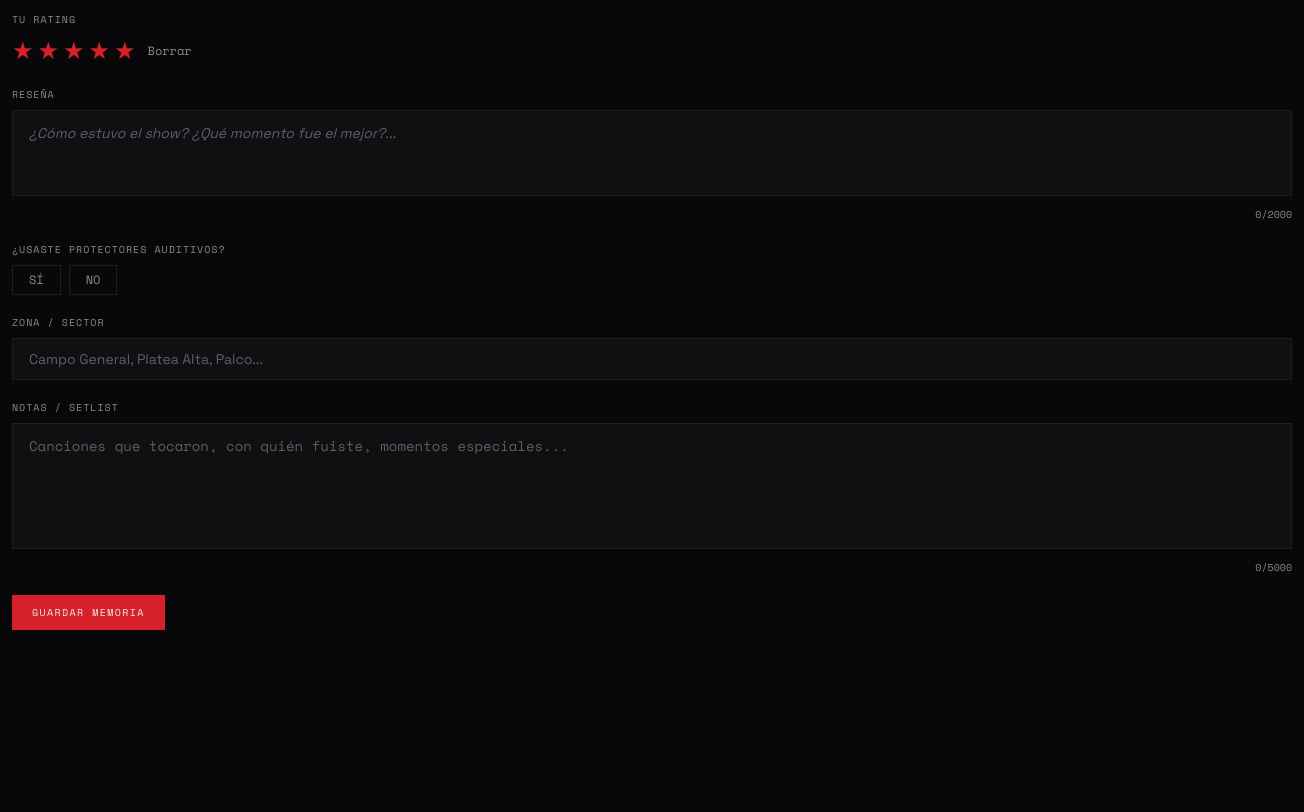
Test: RatingAndReviewForm › clears the rating via the "Borrar" button
What coordinates should you click on to do the following:
click the button "Borrar"
I would click on:
 (170, 51)
Its box is [148, 43, 192, 59].
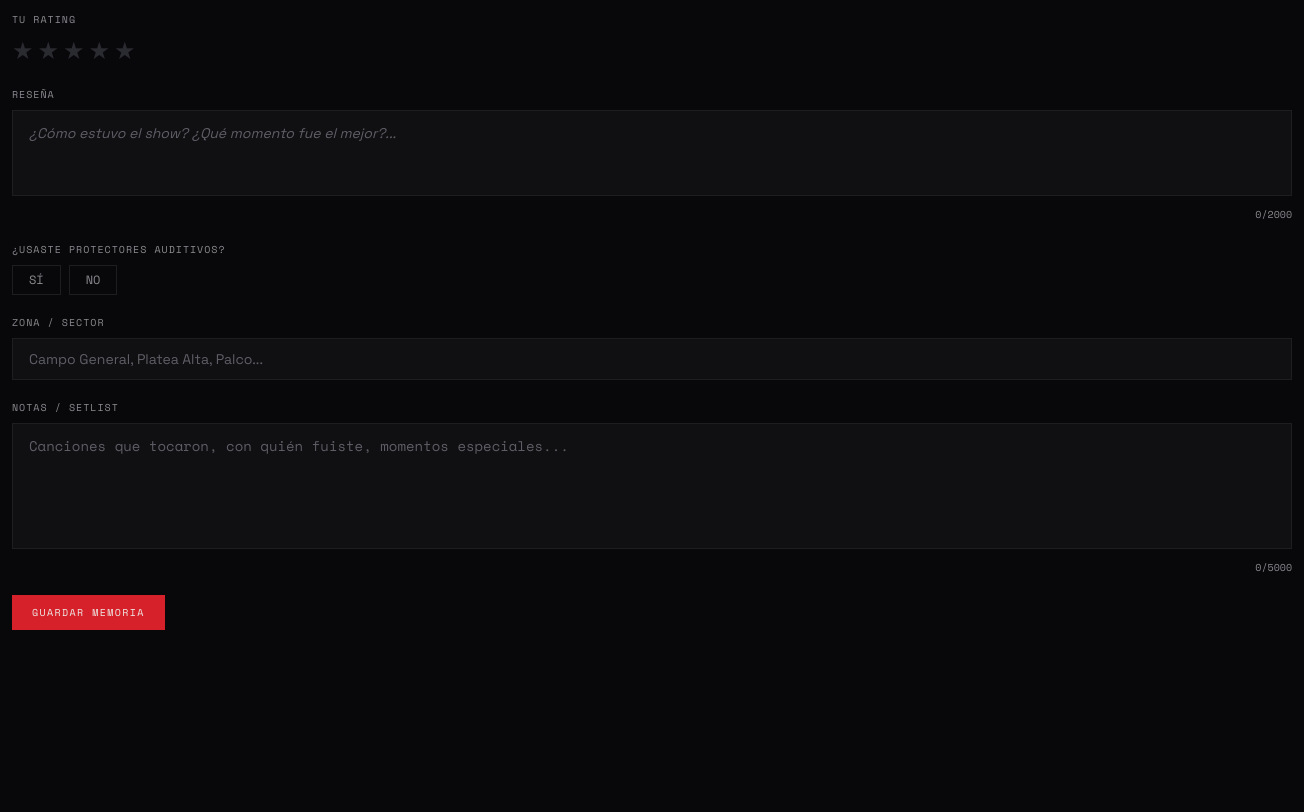
Check: the button "Borrar" is gone
